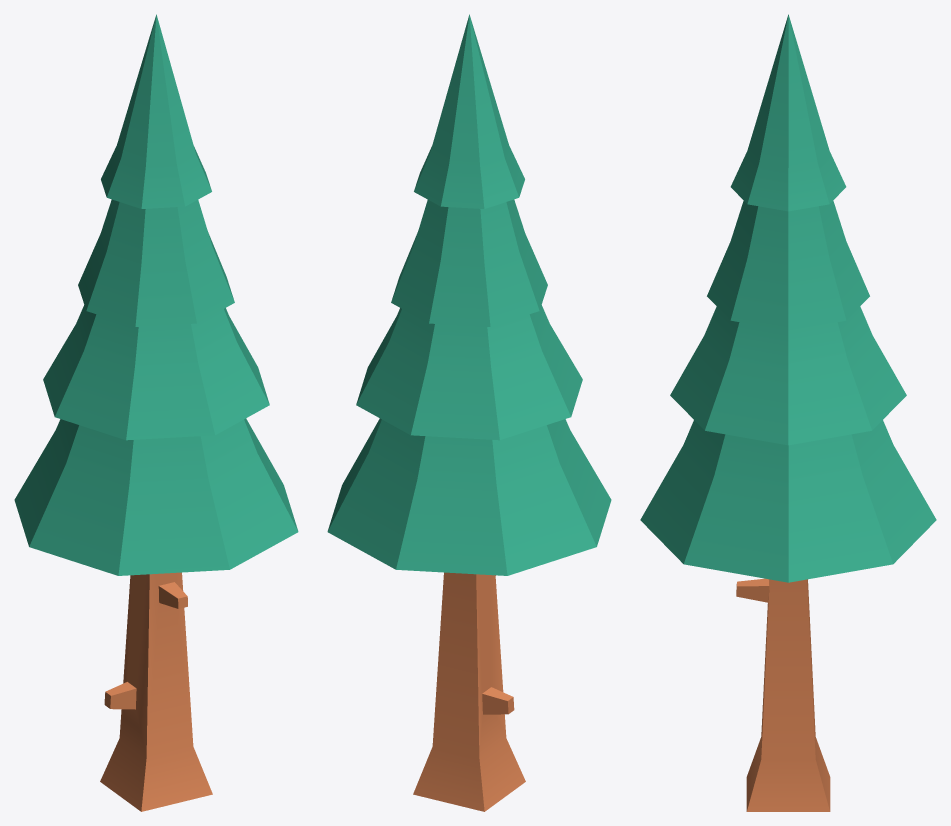
File: treeHigh.obj
3 renders of one model, left to right at view 1: azimuth 30°, elevation 25°; view 2: azimuth 150°, elevation 25°; view 3: azimuth 270°, elevation 25°, orthographic.
Visible parts, largest first — view 1: treeHigh; view 2: treeHigh; view 3: treeHigh.
Part boxes in pixels (left/top/right/bottom): treeHigh: left=14, top=14, right=298, bottom=811; treeHigh: left=327, top=14, right=611, bottom=811; treeHigh: left=640, top=14, right=936, bottom=811.
Bounding box in the file's own units: 1.02 × 2.97 × 1.02.
